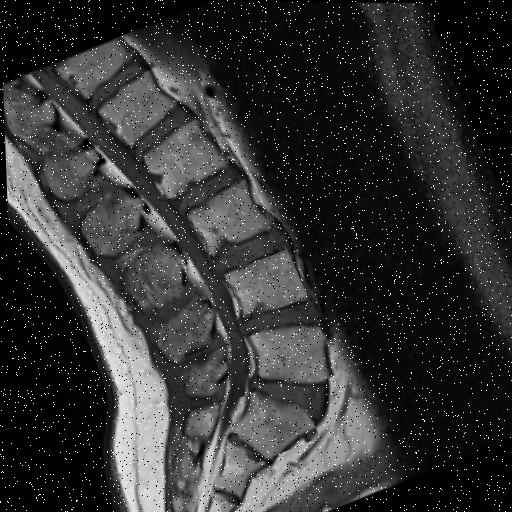L1: (99, 71, 176, 145)
L2: (142, 119, 226, 199)
L3: (187, 180, 270, 254)
L4: (223, 249, 306, 318)
L5: (246, 327, 324, 382)
S1: (232, 392, 313, 460)
